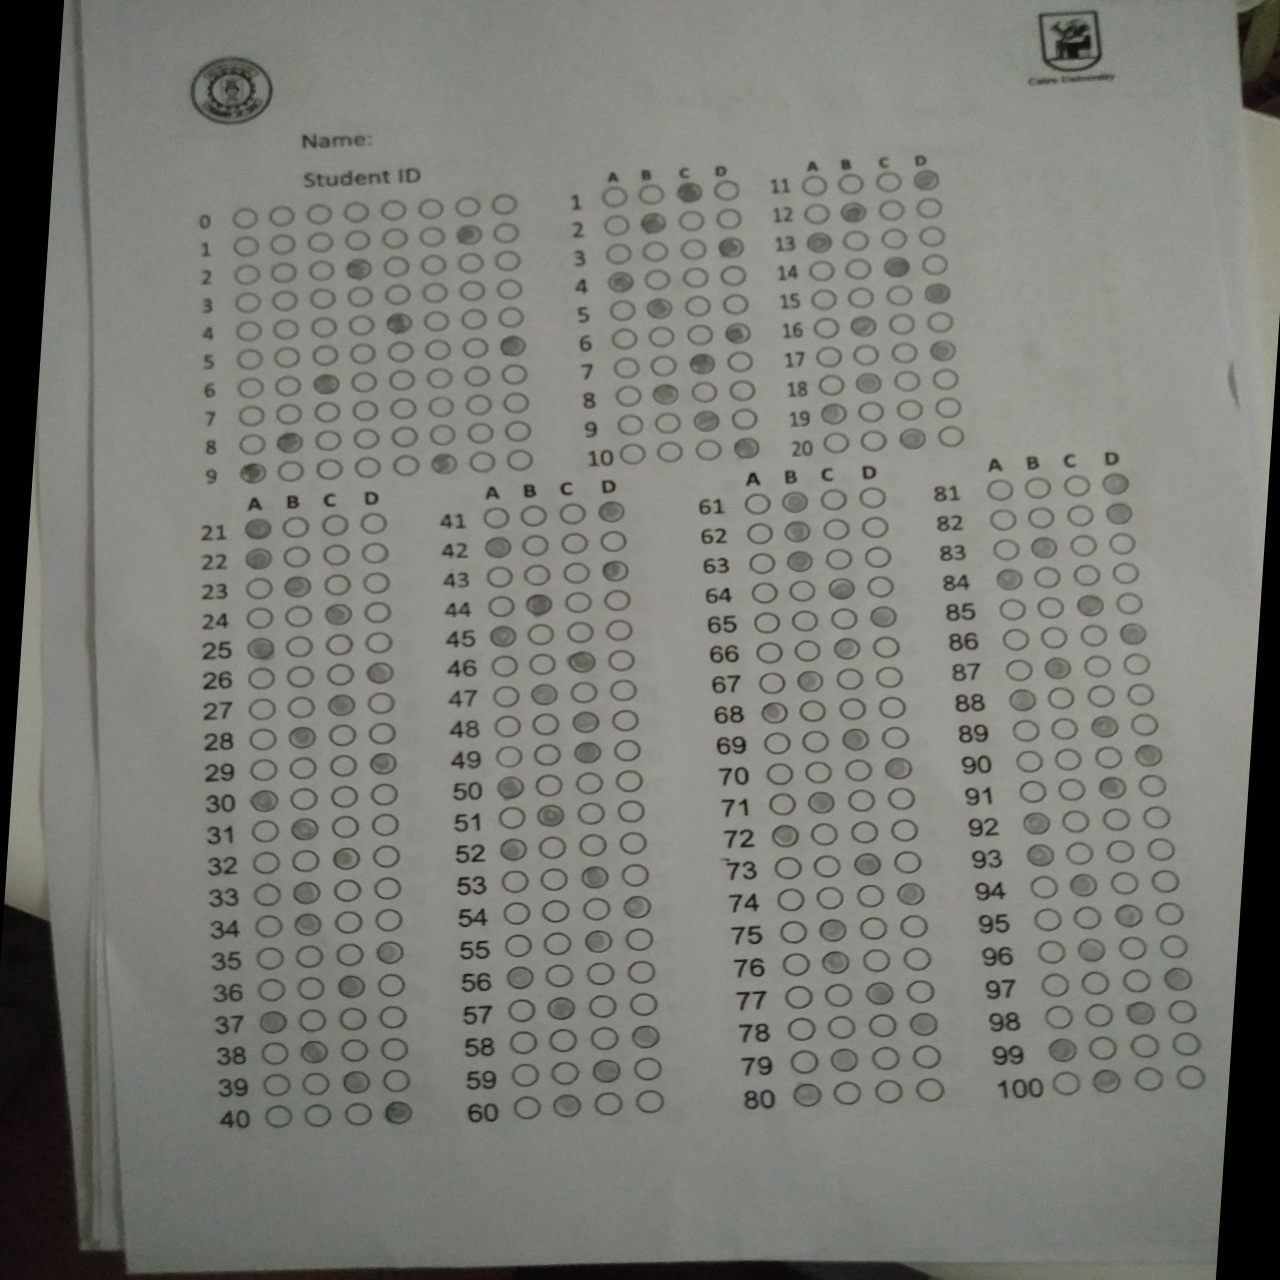not-c: (1030, 905, 1065, 935), (1118, 651, 1152, 681), (900, 945, 935, 974), (908, 1042, 944, 1071), (872, 1076, 907, 1105), (1103, 837, 1138, 866), (1166, 998, 1201, 1027), (1172, 1062, 1207, 1091), (1090, 743, 1125, 772), (1036, 624, 1071, 653), (982, 476, 1017, 505), (368, 779, 402, 809), (491, 713, 525, 742), (688, 377, 722, 407), (781, 982, 815, 1012), (788, 1049, 822, 1078), (903, 979, 937, 1008), (912, 1075, 946, 1104), (830, 1080, 864, 1109), (1082, 1002, 1116, 1032), (1080, 968, 1114, 998), (1115, 933, 1149, 962), (1157, 933, 1191, 962), (1128, 1032, 1162, 1061), (1099, 805, 1133, 835), (1136, 772, 1170, 802), (1054, 775, 1088, 804), (1051, 745, 1085, 775), (1047, 714, 1081, 743), (1123, 682, 1157, 712), (1080, 652, 1114, 681), (1084, 682, 1118, 712), (1067, 530, 1101, 559), (1032, 563, 1065, 592), (998, 625, 1032, 654), (1063, 502, 1097, 531), (1021, 474, 1055, 503), (245, 665, 280, 693), (293, 974, 328, 1002), (340, 1099, 375, 1128), (504, 996, 539, 1024), (501, 932, 536, 960), (614, 798, 649, 826), (612, 768, 647, 796), (604, 646, 639, 674), (559, 560, 594, 588), (726, 377, 761, 406), (783, 1016, 818, 1044), (1049, 1071, 1084, 1099), (1085, 1035, 1121, 1063), (1039, 971, 1074, 999), (1152, 901, 1187, 930), (1139, 804, 1175, 832), (1109, 561, 1144, 590), (634, 181, 667, 210), (1071, 904, 1104, 933), (1063, 838, 1096, 867), (1024, 505, 1057, 535), (282, 663, 316, 692), (366, 719, 400, 747), (365, 690, 399, 719), (329, 783, 363, 811), (248, 849, 282, 877), (331, 878, 365, 906), (252, 912, 286, 940), (332, 942, 366, 971), (254, 976, 288, 1005), (372, 971, 406, 999), (294, 1007, 328, 1035), (300, 1101, 334, 1129), (549, 1058, 583, 1087), (588, 1024, 622, 1053), (508, 1030, 542, 1058), (624, 926, 658, 954), (542, 961, 576, 989), (539, 898, 573, 926), (498, 899, 532, 927), (617, 829, 651, 857), (576, 799, 610, 828), (531, 741, 565, 769), (493, 743, 527, 771), (601, 587, 635, 615), (595, 526, 629, 554), (559, 529, 593, 557), (523, 620, 557, 648), (526, 651, 560, 679), (567, 678, 601, 706), (561, 590, 595, 618), (481, 504, 515, 532), (727, 407, 761, 435), (608, 326, 642, 354), (772, 886, 806, 914), (776, 918, 810, 946), (856, 915, 890, 944), (898, 913, 932, 941), (860, 947, 894, 975), (779, 949, 813, 978), (825, 1014, 859, 1042), (822, 982, 856, 1010), (869, 1044, 903, 1073), (1043, 1003, 1077, 1032), (1033, 939, 1067, 967), (1028, 873, 1062, 901), (1108, 869, 1142, 897), (1144, 836, 1178, 864), (1132, 1065, 1166, 1094), (1015, 778, 1049, 806), (1058, 808, 1092, 836), (1013, 747, 1047, 775), (1002, 656, 1036, 685), (1043, 685, 1077, 713), (1076, 622, 1110, 651), (1111, 590, 1145, 618), (1107, 531, 1141, 559), (1070, 561, 1104, 590), (1032, 593, 1065, 621), (998, 595, 1032, 624), (989, 536, 1023, 564), (1061, 472, 1095, 501), (248, 881, 284, 908), (590, 1090, 625, 1117), (536, 867, 571, 894), (1126, 712, 1162, 738), (324, 631, 356, 659), (361, 629, 394, 658), (326, 722, 359, 750), (368, 812, 401, 840), (370, 874, 403, 903), (332, 908, 365, 937), (293, 942, 326, 971), (254, 945, 287, 973), (338, 1005, 370, 1033), (300, 1070, 333, 1098), (631, 1056, 663, 1084), (499, 867, 532, 896), (610, 706, 642, 734), (519, 532, 552, 560), (740, 490, 772, 518), (617, 441, 649, 469), (602, 240, 635, 268), (597, 184, 629, 212), (865, 1012, 898, 1040), (1150, 867, 1183, 896), (1121, 967, 1153, 995), (1009, 717, 1042, 745), (282, 633, 316, 660), (284, 693, 318, 720), (245, 696, 279, 723), (245, 726, 279, 753), (247, 756, 281, 783), (287, 847, 321, 874), (328, 813, 362, 840), (372, 907, 406, 934), (376, 1005, 410, 1032), (258, 1041, 292, 1068), (377, 1036, 411, 1063), (379, 1068, 413, 1095), (624, 959, 658, 986), (540, 930, 574, 956), (583, 961, 617, 988), (576, 833, 610, 860), (535, 835, 568, 862), (496, 804, 530, 831), (572, 769, 606, 796), (611, 738, 645, 765), (602, 617, 636, 644), (520, 561, 554, 588), (529, 712, 563, 738), (563, 620, 597, 647), (485, 594, 519, 621), (554, 501, 588, 527), (692, 437, 726, 464), (652, 440, 686, 467), (651, 410, 685, 437), (611, 382, 645, 409), (599, 211, 633, 238), (1169, 1032, 1203, 1058), (988, 508, 1022, 535), (324, 661, 356, 688), (285, 755, 318, 782), (326, 753, 359, 779), (290, 787, 322, 813), (250, 818, 282, 845), (369, 843, 402, 870), (339, 1039, 372, 1065), (261, 1073, 294, 1099), (263, 1103, 295, 1130), (510, 1095, 543, 1122), (509, 1063, 542, 1090), (634, 1089, 667, 1116), (546, 1027, 579, 1054), (587, 994, 620, 1021), (628, 990, 661, 1017), (581, 896, 614, 922), (618, 862, 651, 888), (533, 772, 566, 799), (606, 678, 639, 704), (490, 683, 523, 710), (488, 653, 520, 680), (484, 564, 517, 591), (518, 503, 551, 530), (613, 413, 646, 440), (611, 355, 644, 382), (607, 298, 640, 325), (885, 311, 918, 338), (855, 399, 887, 425), (790, 636, 823, 663), (802, 760, 835, 787), (350, 425, 382, 452), (463, 392, 495, 418), (320, 542, 352, 568), (645, 324, 676, 350), (913, 195, 945, 222), (802, 200, 833, 227), (813, 343, 845, 370), (817, 488, 849, 515), (796, 699, 828, 726), (493, 304, 526, 329), (678, 237, 710, 263), (679, 264, 712, 290), (720, 291, 753, 316), (806, 285, 839, 311), (917, 224, 949, 250), (842, 257, 874, 282), (887, 340, 920, 366), (857, 428, 890, 454), (849, 342, 881, 368), (855, 485, 887, 511), (821, 546, 853, 572), (788, 608, 821, 634), (753, 640, 785, 666), (755, 669, 788, 695), (876, 694, 908, 720), (836, 696, 869, 722), (760, 731, 792, 757), (842, 757, 874, 783), (765, 792, 798, 818), (771, 855, 802, 881), (265, 203, 297, 229), (302, 200, 334, 226), (493, 277, 525, 302), (271, 345, 302, 370), (270, 316, 301, 342), (267, 261, 299, 287), (231, 234, 263, 260), (236, 431, 267, 457), (502, 418, 533, 444), (353, 454, 384, 479), (312, 457, 343, 483), (319, 512, 350, 538), (358, 510, 389, 536), (282, 604, 314, 629), (713, 205, 744, 231), (639, 238, 670, 264), (641, 267, 673, 293), (717, 263, 749, 288), (723, 350, 755, 376), (846, 285, 878, 311), (884, 284, 915, 309), (920, 252, 952, 278), (877, 197, 908, 223), (879, 226, 911, 252), (840, 227, 872, 253), (799, 173, 831, 199), (925, 308, 956, 334), (891, 368, 922, 394), (894, 395, 926, 421), (930, 366, 961, 392), (816, 373, 847, 399), (821, 429, 852, 455), (819, 516, 851, 542), (858, 515, 890, 540), (743, 520, 775, 546), (747, 551, 778, 577), (785, 579, 817, 605), (748, 581, 779, 607), (750, 611, 782, 636), (871, 634, 903, 660), (872, 663, 904, 689), (879, 726, 911, 751), (763, 761, 795, 787), (888, 817, 920, 843), (847, 821, 879, 846), (809, 822, 840, 847), (810, 855, 842, 880), (891, 849, 922, 874), (855, 883, 886, 908), (813, 885, 845, 911), (488, 193, 520, 218), (345, 313, 377, 338), (302, 231, 335, 256), (311, 401, 343, 425), (425, 365, 455, 392), (233, 290, 263, 316), (273, 372, 302, 399), (280, 515, 309, 542), (491, 248, 522, 274), (418, 279, 449, 305), (459, 335, 490, 361), (387, 368, 417, 394), (427, 423, 457, 449), (501, 390, 531, 416), (504, 447, 535, 472), (280, 544, 311, 570), (243, 576, 273, 601), (245, 605, 275, 631), (712, 177, 742, 203), (676, 207, 707, 233), (682, 293, 713, 319), (683, 322, 714, 348), (647, 353, 678, 379), (806, 257, 837, 282), (835, 172, 865, 198), (933, 395, 964, 421), (934, 423, 965, 449), (865, 574, 896, 600), (835, 666, 865, 692), (799, 728, 830, 754), (847, 788, 878, 813), (886, 787, 917, 812), (229, 205, 260, 230), (377, 198, 409, 223), (379, 226, 410, 251), (346, 342, 377, 367), (345, 285, 376, 309), (308, 315, 340, 340), (309, 342, 341, 367), (312, 428, 343, 452), (467, 449, 498, 474), (872, 171, 904, 196), (810, 316, 842, 341), (862, 545, 893, 570), (828, 607, 859, 632), (342, 200, 372, 226), (416, 196, 445, 222), (342, 229, 372, 254), (233, 263, 263, 288), (234, 347, 264, 373), (467, 420, 496, 445), (275, 459, 305, 485), (452, 195, 483, 219), (490, 222, 520, 246), (456, 251, 486, 275), (416, 225, 447, 250), (380, 256, 410, 280), (421, 308, 451, 333), (422, 338, 452, 362), (462, 365, 492, 389), (498, 362, 529, 387), (386, 340, 416, 365), (307, 287, 338, 312), (268, 290, 299, 314), (267, 231, 298, 256), (236, 376, 266, 401), (236, 403, 266, 428), (350, 399, 381, 423), (349, 370, 380, 395), (387, 395, 417, 420), (427, 396, 457, 421), (322, 572, 353, 597), (361, 571, 392, 595), (305, 259, 336, 282), (359, 542, 390, 565), (458, 307, 488, 332), (458, 279, 488, 304), (418, 253, 448, 278), (382, 282, 411, 307), (233, 319, 263, 343), (392, 454, 421, 478), (363, 601, 393, 626), (273, 402, 304, 425), (390, 425, 420, 449)
taken-c: (284, 723, 318, 753), (543, 994, 578, 1022), (243, 635, 278, 663), (320, 600, 355, 628), (862, 980, 897, 1008), (906, 1010, 941, 1039), (1123, 999, 1158, 1027), (1019, 810, 1054, 838), (1040, 653, 1075, 681), (1101, 501, 1136, 529), (850, 369, 885, 397), (880, 254, 915, 282), (836, 198, 871, 226), (715, 233, 750, 261), (721, 321, 756, 349), (689, 407, 724, 435), (495, 333, 530, 361), (272, 430, 307, 458), (341, 256, 376, 284), (248, 787, 281, 816), (240, 544, 273, 573), (241, 515, 274, 544), (340, 1069, 374, 1097), (288, 816, 322, 844), (850, 849, 884, 877), (893, 880, 927, 908), (816, 915, 850, 944), (821, 949, 855, 978), (790, 1081, 824, 1109), (1046, 1037, 1080, 1065), (1089, 1067, 1123, 1095), (1160, 965, 1194, 993), (1068, 873, 1102, 901), (1095, 775, 1129, 803), (1087, 714, 1121, 742), (1005, 687, 1039, 715), (992, 567, 1026, 595), (1097, 470, 1131, 498), (817, 401, 851, 429), (804, 229, 838, 257), (908, 166, 942, 195), (636, 209, 670, 237), (604, 268, 638, 297), (642, 295, 676, 324), (685, 350, 719, 379), (649, 381, 683, 409), (728, 435, 762, 463), (427, 450, 461, 478), (234, 458, 268, 486), (288, 880, 324, 907), (329, 845, 365, 872), (767, 822, 802, 849), (1073, 593, 1108, 620), (828, 1046, 860, 1074), (1024, 842, 1057, 870), (1131, 741, 1164, 769), (1027, 535, 1060, 563), (921, 280, 954, 308), (672, 179, 704, 207), (382, 309, 415, 338), (577, 864, 611, 891), (620, 893, 654, 920), (581, 928, 615, 955), (502, 964, 536, 990), (629, 1023, 663, 1050), (590, 1057, 624, 1084), (549, 1092, 583, 1119), (256, 1010, 290, 1037), (334, 972, 368, 999), (373, 939, 407, 966), (290, 911, 324, 938), (367, 750, 401, 777), (363, 660, 397, 687), (280, 574, 314, 601), (1075, 937, 1109, 964), (1116, 620, 1150, 647), (896, 425, 930, 452), (925, 338, 959, 365), (847, 315, 881, 342), (309, 372, 343, 399), (450, 222, 484, 248), (382, 1099, 415, 1126), (298, 1039, 331, 1065), (325, 693, 358, 720), (825, 576, 858, 602), (839, 726, 872, 753), (1114, 903, 1146, 930), (481, 535, 515, 560), (564, 651, 598, 676), (527, 682, 561, 708), (493, 775, 527, 801), (758, 699, 790, 726), (486, 622, 519, 648), (535, 803, 567, 829), (783, 550, 816, 576), (830, 636, 863, 662), (881, 756, 914, 782), (598, 559, 632, 584), (568, 709, 602, 734), (497, 837, 529, 863), (866, 604, 898, 629), (595, 499, 628, 524), (523, 592, 556, 617), (794, 670, 826, 695), (805, 790, 838, 815), (572, 741, 604, 765), (779, 490, 811, 515), (782, 520, 813, 545)
